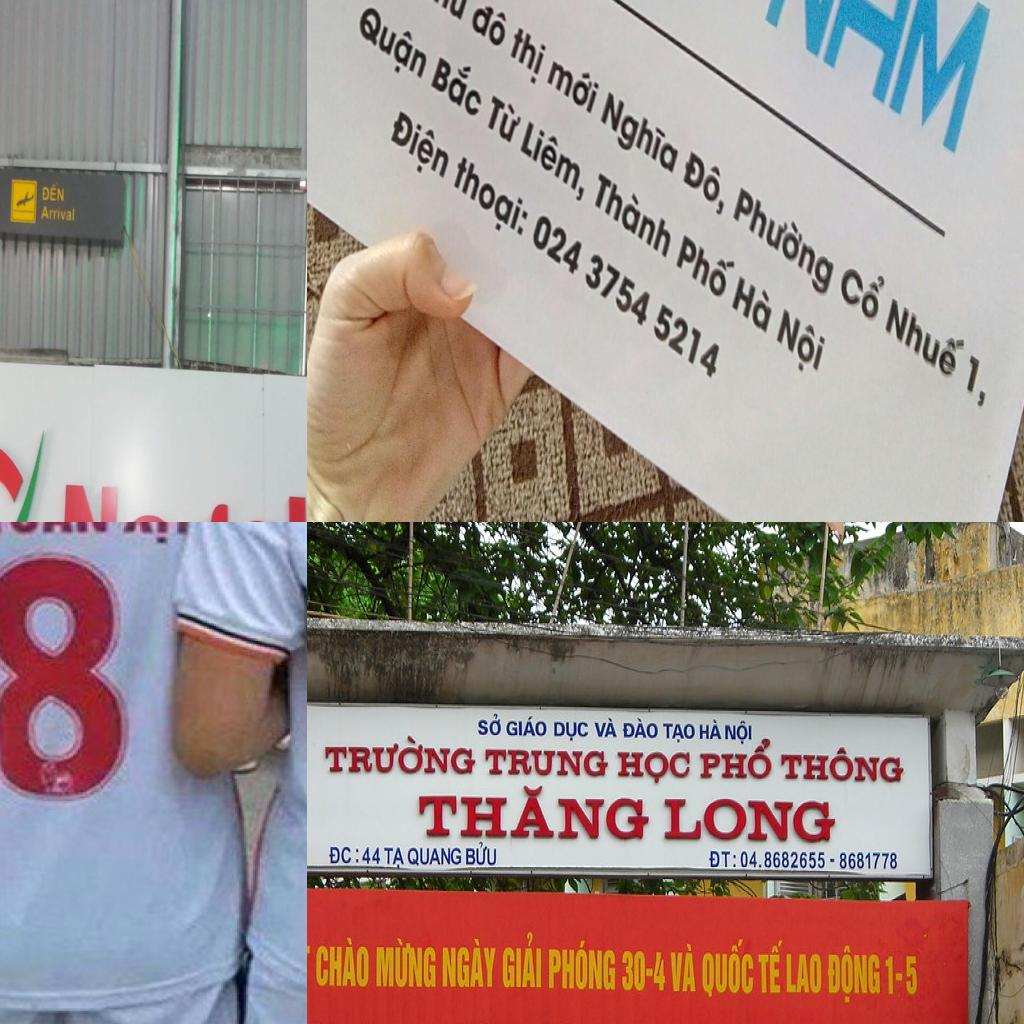text: (0, 549, 138, 809), (526, 212, 723, 382), (419, 783, 650, 842), (730, 185, 842, 301), (446, 152, 532, 249), (596, 88, 682, 184), (590, 168, 676, 260), (664, 798, 836, 843), (881, 292, 968, 380), (352, 0, 431, 90), (518, 118, 589, 209), (325, 734, 477, 776), (384, 107, 454, 193), (674, 228, 739, 305), (428, 47, 490, 123), (773, 304, 829, 385), (781, 747, 906, 783), (836, 252, 889, 326), (485, 748, 609, 778), (546, 53, 601, 119), (680, 148, 730, 220), (549, 940, 617, 992), (702, 936, 755, 1000), (700, 736, 774, 780), (375, 938, 437, 990), (827, 946, 881, 1004), (730, 270, 776, 338), (442, 938, 499, 990), (315, 938, 370, 990), (480, 85, 522, 152), (617, 751, 691, 786), (506, 26, 548, 85), (502, 931, 543, 990), (469, 0, 509, 50), (118, 522, 198, 547), (622, 950, 667, 994), (740, 850, 827, 871), (964, 353, 990, 416), (786, 952, 823, 995), (758, 939, 784, 996), (885, 955, 918, 998), (670, 944, 698, 994), (840, 852, 898, 872), (418, 0, 469, 22), (407, 847, 463, 867), (506, 715, 549, 739), (622, 718, 659, 740), (724, 719, 753, 746), (663, 722, 696, 744), (553, 722, 589, 742), (328, 846, 361, 866), (41, 180, 66, 204), (477, 714, 502, 738), (41, 206, 76, 223), (699, 719, 724, 742), (592, 718, 619, 739), (384, 846, 407, 870), (709, 850, 738, 868), (362, 847, 382, 867)
